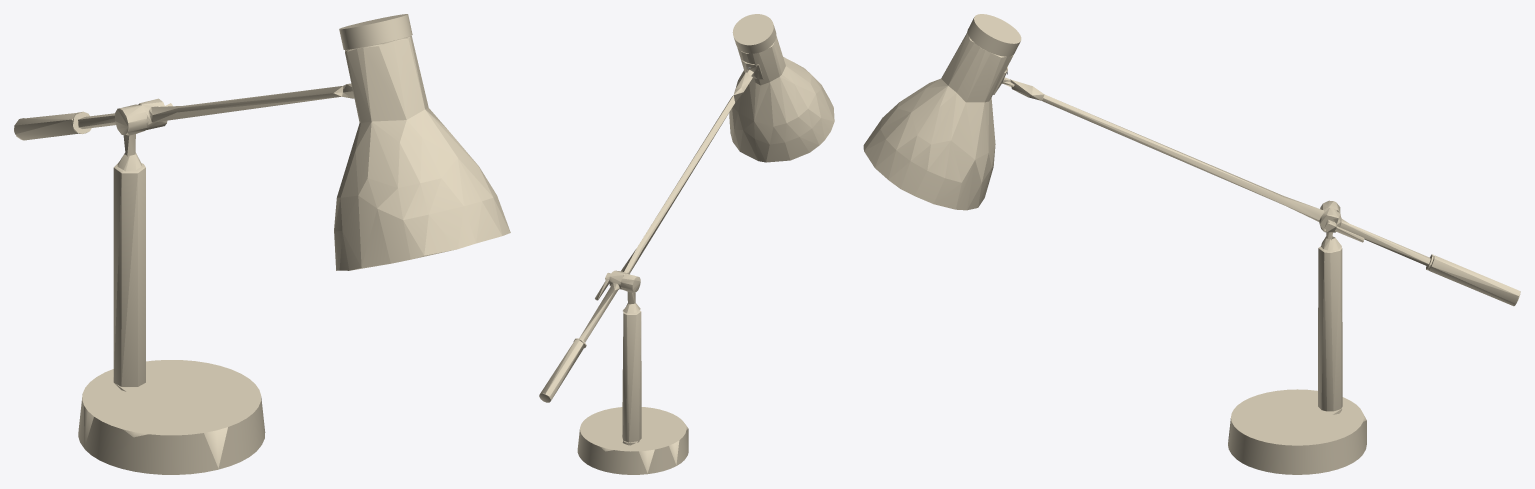
File: Lamp.fbx
3 renders of one model, left to right at view 1: azimuth 30°, elevation 25°; view 2: azimuth 150°, elevation 25°; view 3: azimuth 270°, elevation 25°, orthographic. The views are drawn at different scales.
Parts seen in each view (by area): view 1: Cohen_Table_Lamp_NaturalOak_and_White; view 2: Cohen_Table_Lamp_NaturalOak_and_White; view 3: Cohen_Table_Lamp_NaturalOak_and_White.
Boxes of the visible parts, x1,y1,x2,y2 form: Cohen_Table_Lamp_NaturalOak_and_White: [14, 14, 510, 474]; Cohen_Table_Lamp_NaturalOak_and_White: [539, 14, 834, 474]; Cohen_Table_Lamp_NaturalOak_and_White: [863, 14, 1520, 474].
Size of the model in its own units: 14.71 by 49.9 by 69.58.
